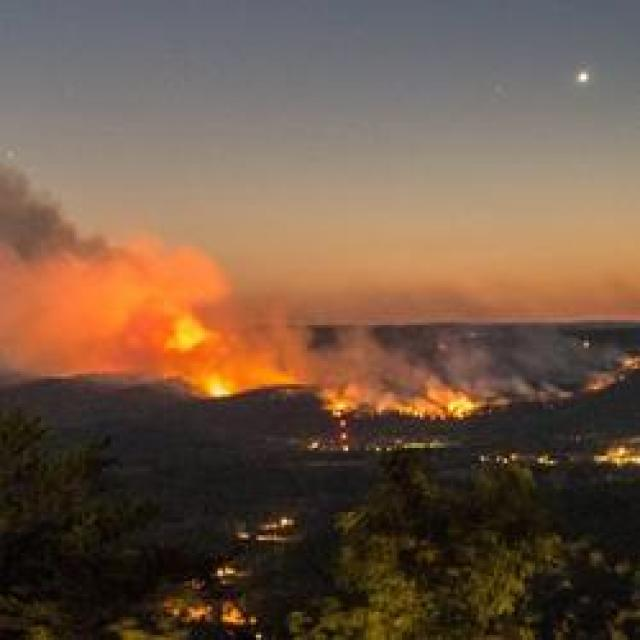fire: (44, 276, 502, 427)
